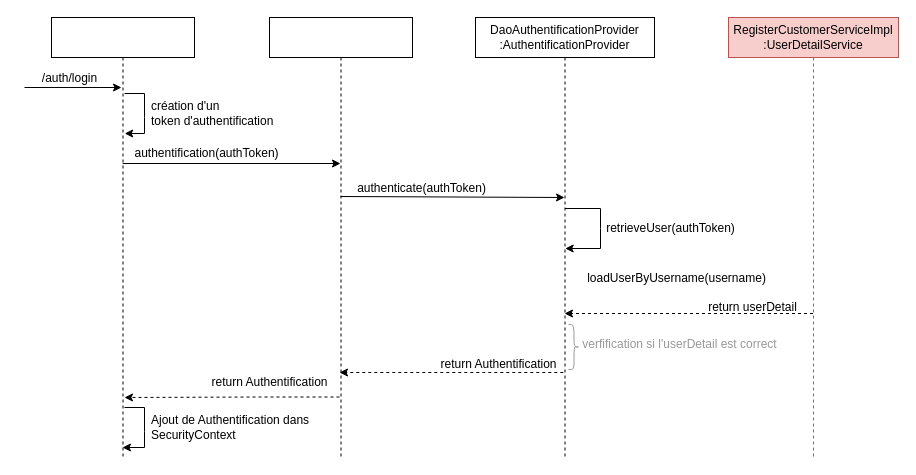
Some shapes in this 916 by 475 pixel diagram are drawn without their labels. Here are the shapes that lost their labels. From the top down, the box of each, then its label:
(50, 16, 194, 458): CustomerController
(268, 16, 412, 458): ProviderManager :AuthenticationManager
